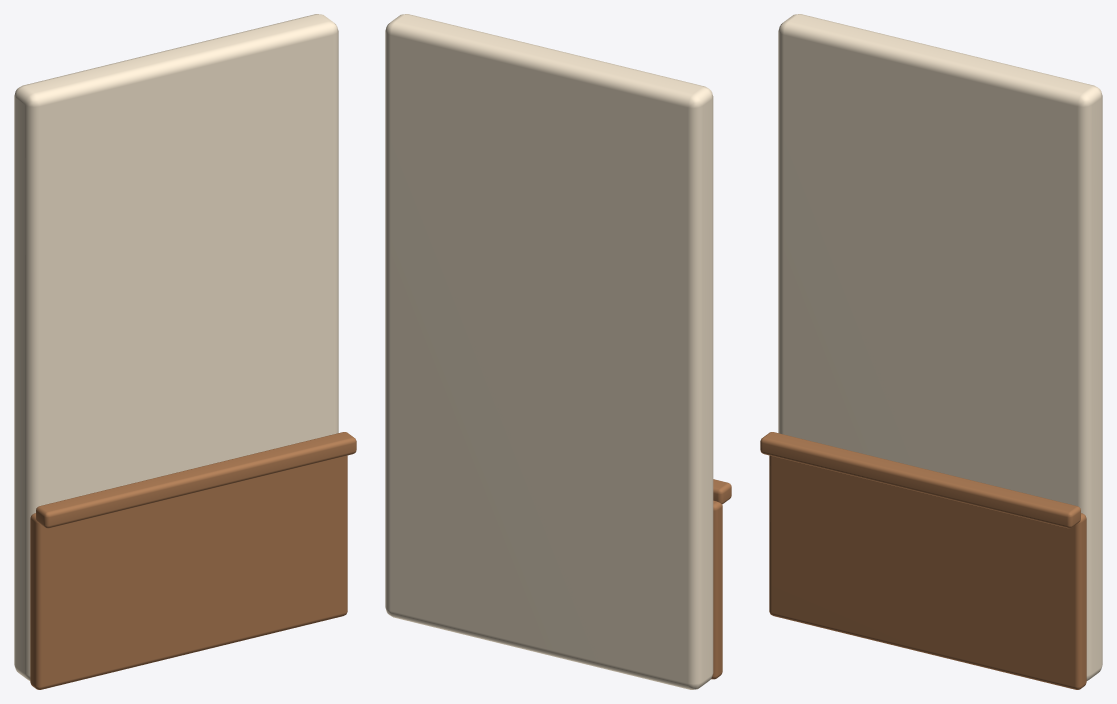
The model's file is wall-back-right.glb.
3 views of the same model, side by side, from view 1: azimuth 30°, elevation 25°; view 2: azimuth 150°, elevation 25°; view 3: azimuth 330°, elevation 25° (orthographic).
Visible parts, largest first — view 1: Back right, Back right lower band, Back right rail; view 2: Back right, Back right lower band; view 3: Back right, Back right lower band, Back right rail.
Part boxes in pixels (x1,y1,x2,y2): Back right: [14, 14, 338, 680]; Back right lower band: [30, 455, 347, 689]; Back right rail: [36, 432, 356, 528]; Back right: [385, 14, 713, 689]; Back right lower band: [711, 500, 722, 679]; Back right: [778, 14, 1102, 680]; Back right lower band: [769, 455, 1086, 689]; Back right rail: [760, 432, 1080, 528].
Bounding box in the file's own units: 2 × 3.6 × 0.395.
